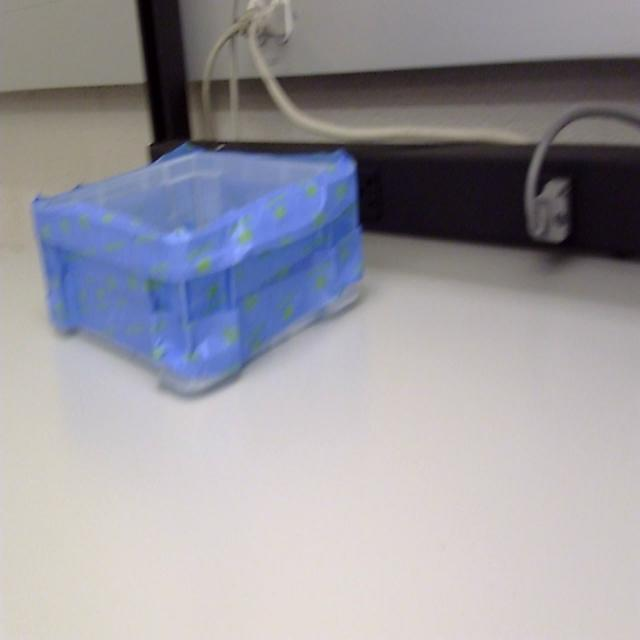bucket: (30, 144, 366, 400)
